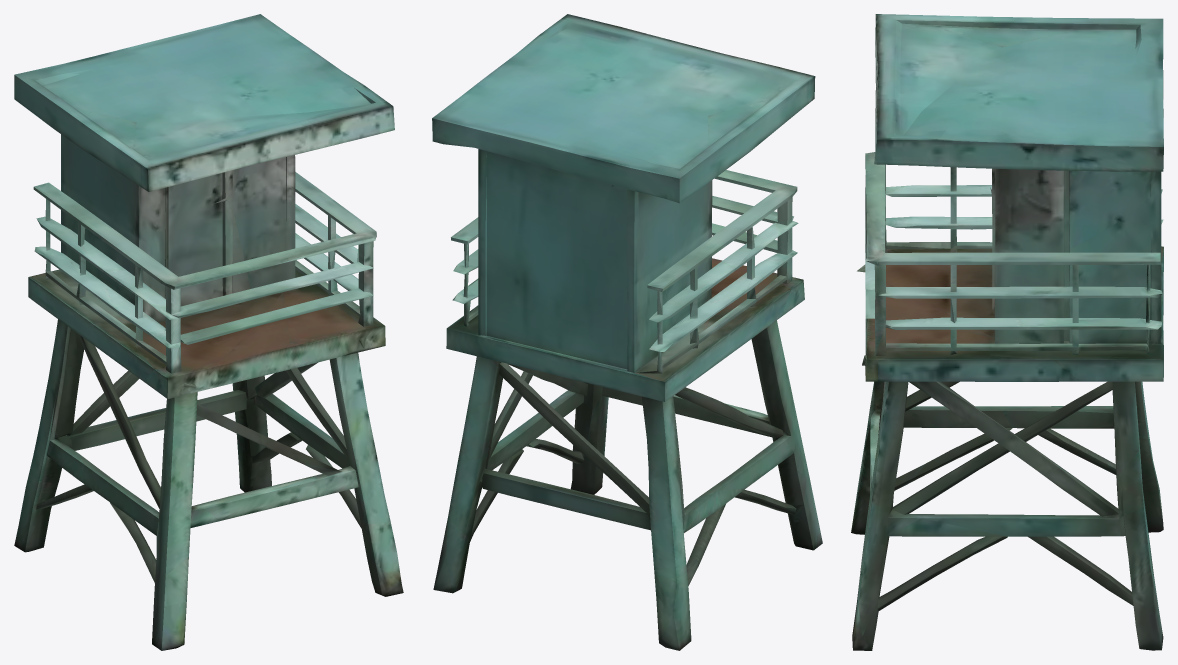
File: searchlightTower.glb
3 renders of one model, left to right at view 1: azimuth 30°, elevation 25°; view 2: azimuth 150°, elevation 25°; view 3: azimuth 270°, elevation 25°, orthographic. The views are drawn at different scales.
Parts seen in each view (by area): view 1: model; view 2: model; view 3: model.
Boxes of the visible parts, left/top/right/bottom form: model: left=14, top=14, right=403, bottom=650; model: left=432, top=14, right=822, bottom=650; model: left=851, top=14, right=1163, bottom=650.
Bounding box in the file's own units: 1.03 × 1.9 × 1.05.
1 material, 1 textured.
